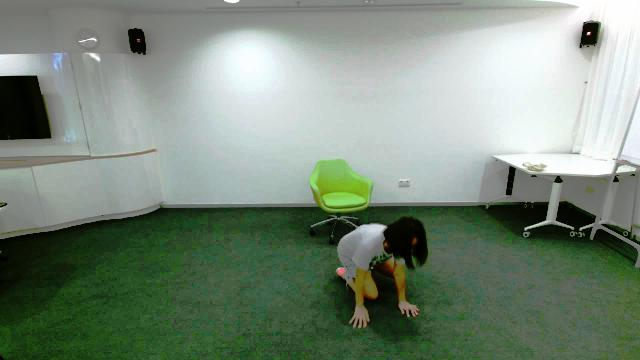jatuh: (332, 216, 433, 334)
